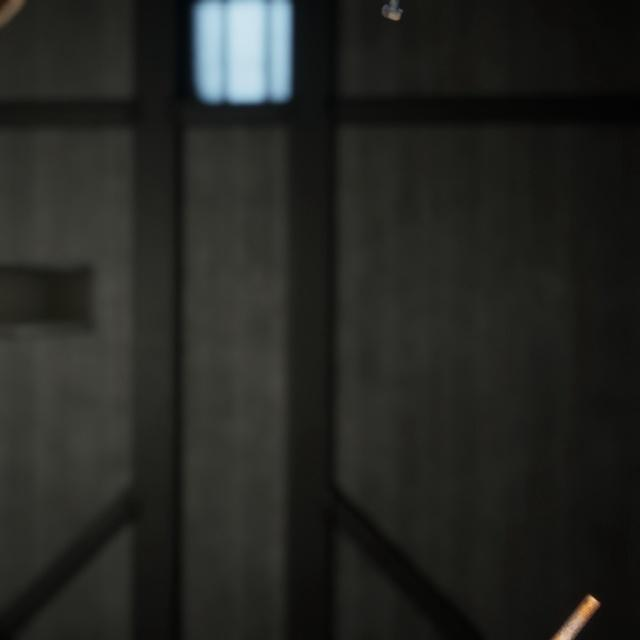bolt: (526, 565, 605, 640)
